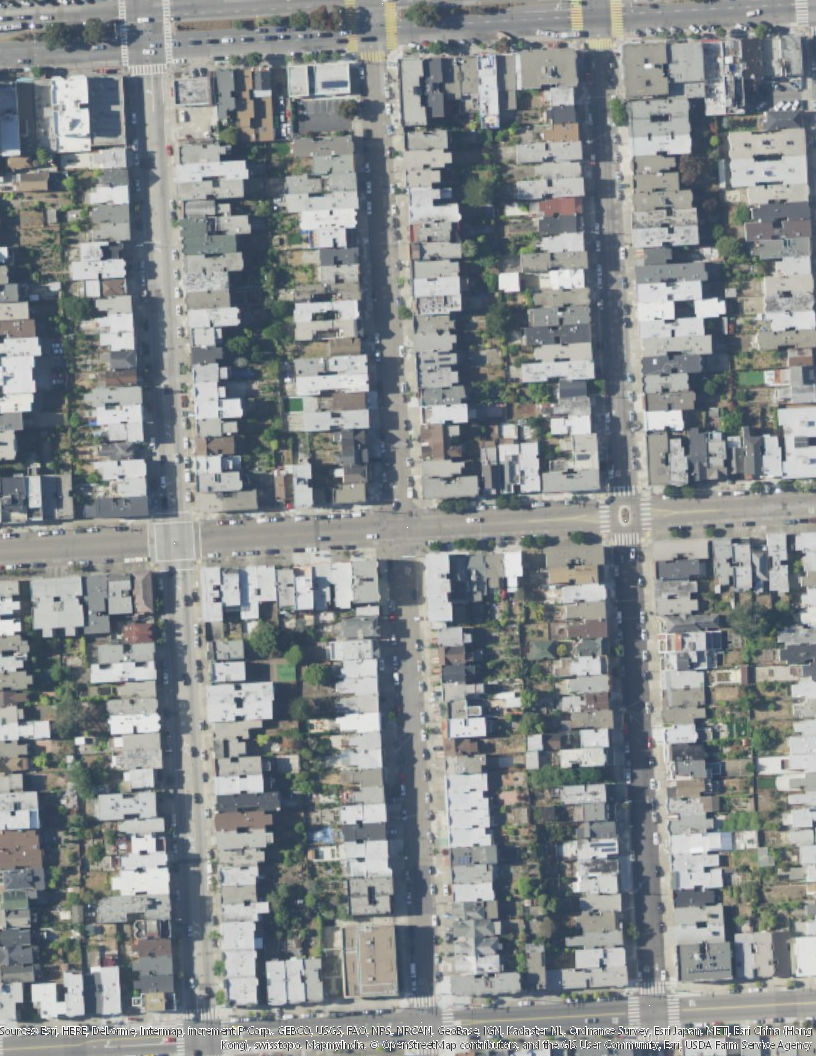zebracross: (159, 1, 174, 62), (117, 1, 129, 65), (344, 1, 359, 52), (384, 1, 399, 50), (609, 1, 624, 38), (183, 1006, 218, 1021), (402, 996, 438, 1010), (666, 992, 680, 1028), (598, 499, 612, 533), (568, 1, 584, 30), (127, 63, 165, 75), (641, 495, 653, 533), (608, 532, 640, 546), (628, 994, 641, 1027), (793, 1, 810, 25), (638, 979, 665, 994), (610, 483, 638, 497), (359, 51, 387, 62), (442, 1008, 455, 1027), (176, 1032, 185, 1056), (589, 36, 600, 48)
